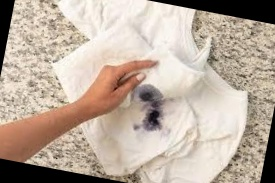ink: (138, 85, 164, 106), (142, 108, 164, 131)
